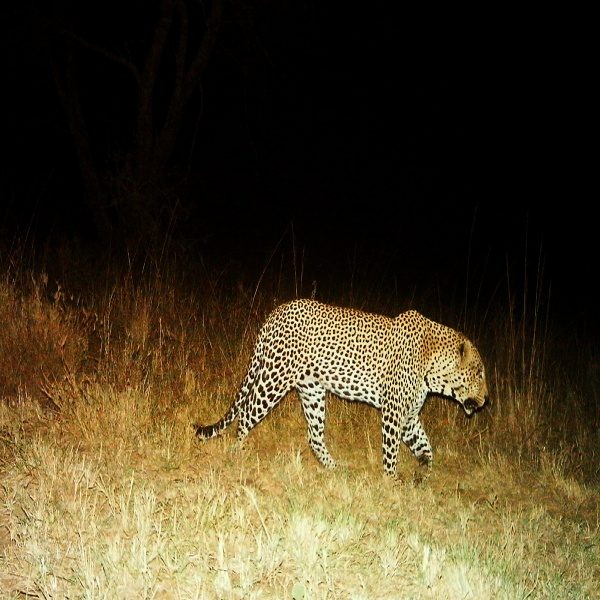Leopard: (197, 293, 490, 488)
